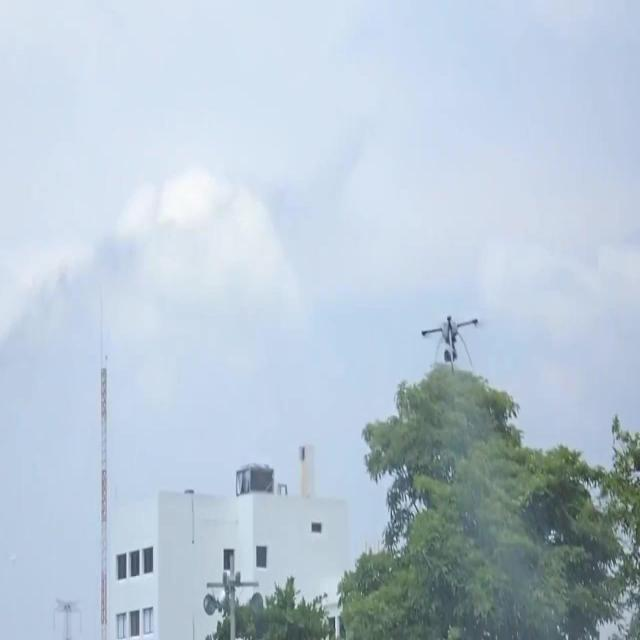drone: (420, 314, 479, 374)
